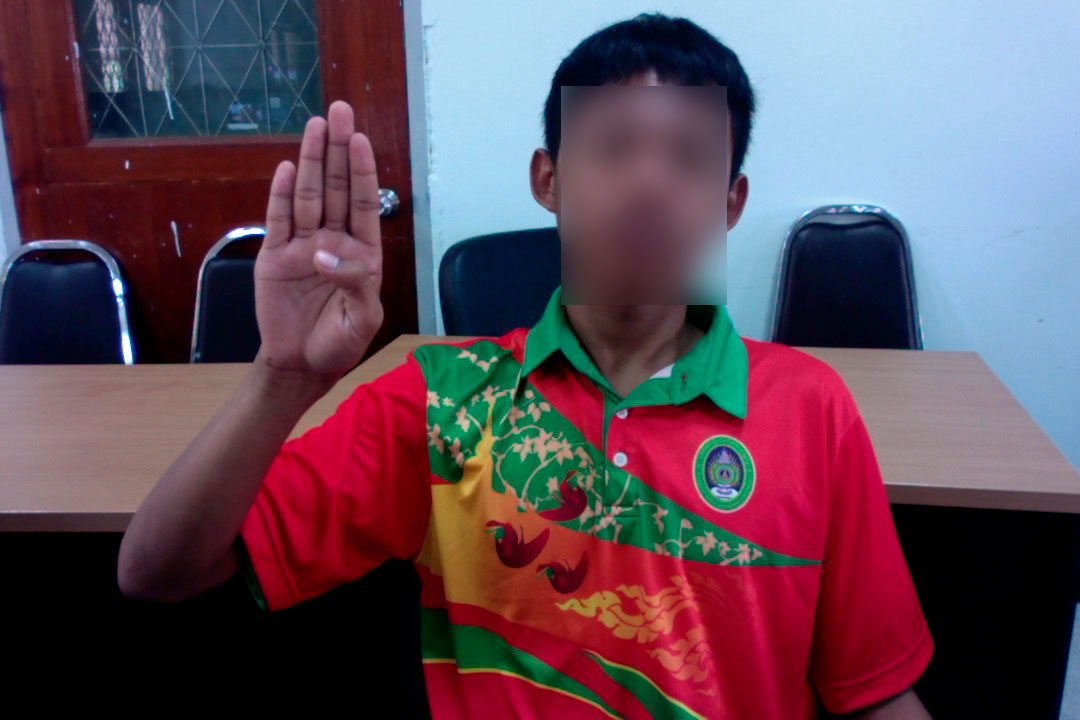bor: (251, 96, 388, 387)
